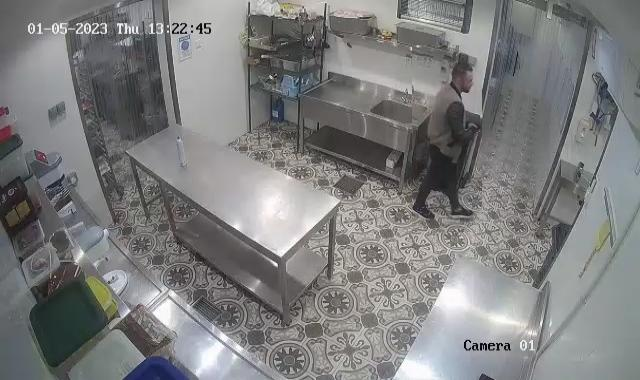no_hairnet: (448, 61, 472, 93)
